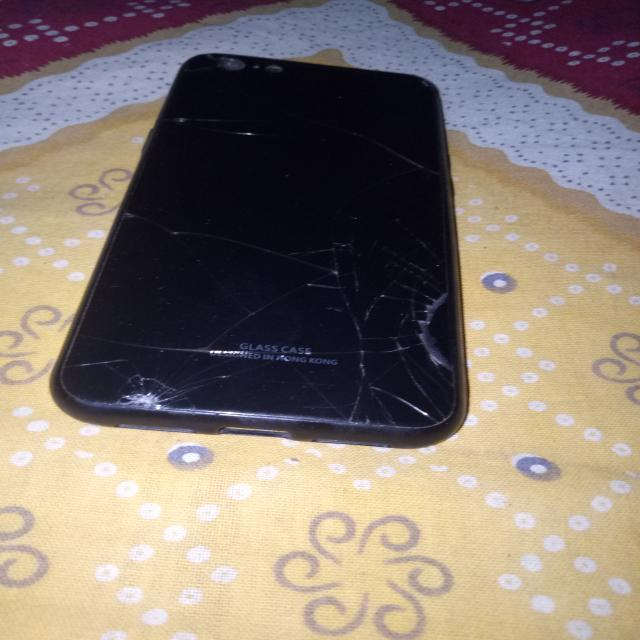screen crack: (361, 252, 488, 468), (66, 349, 215, 443), (199, 31, 277, 100)
